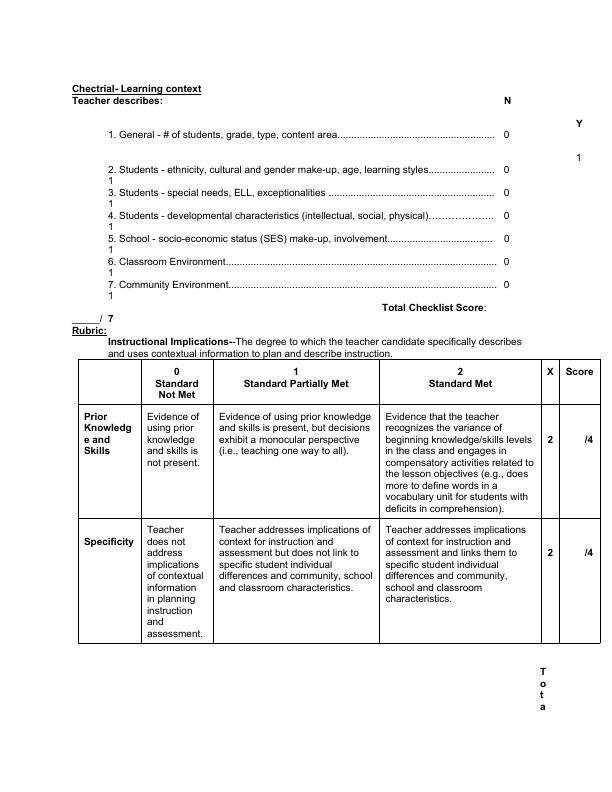input: (70, 312, 99, 325)
table: (72, 357, 606, 656)
text: (101, 125, 528, 300), (72, 328, 527, 360), (66, 81, 210, 107), (380, 302, 494, 316), (497, 89, 520, 106), (573, 148, 590, 165), (572, 116, 590, 130), (104, 310, 122, 324)
